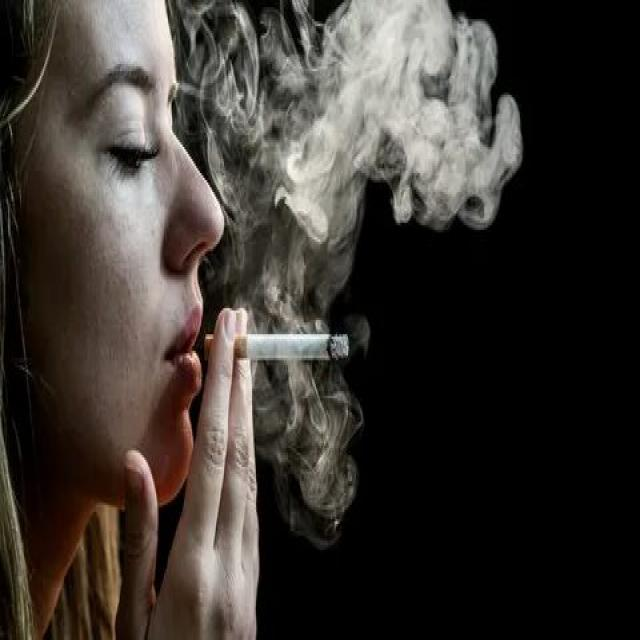cigarette: (204, 327, 352, 368)
